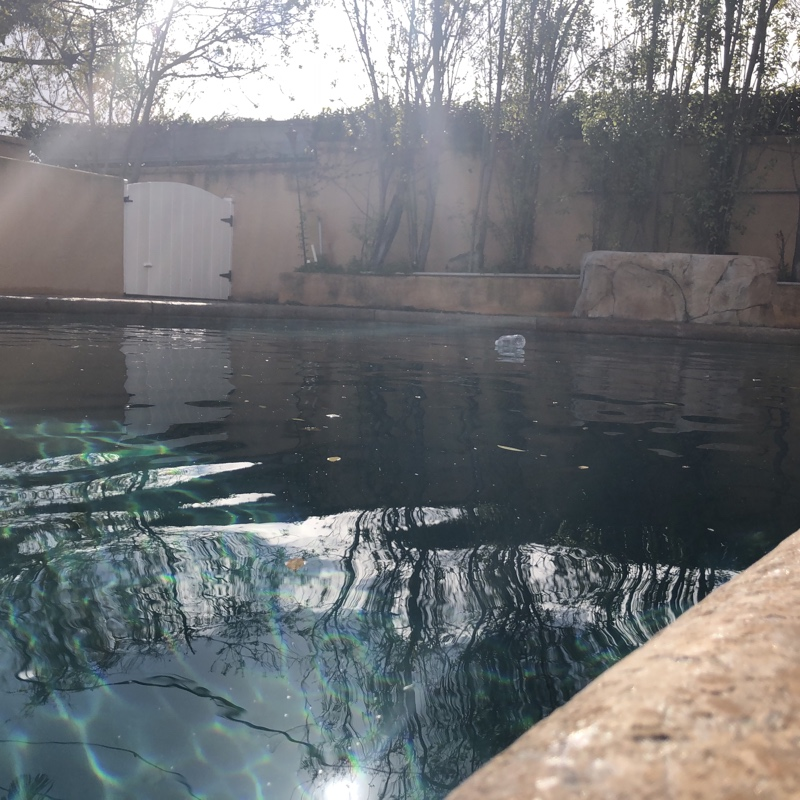Plastic Bottle: (494, 331, 527, 348)
